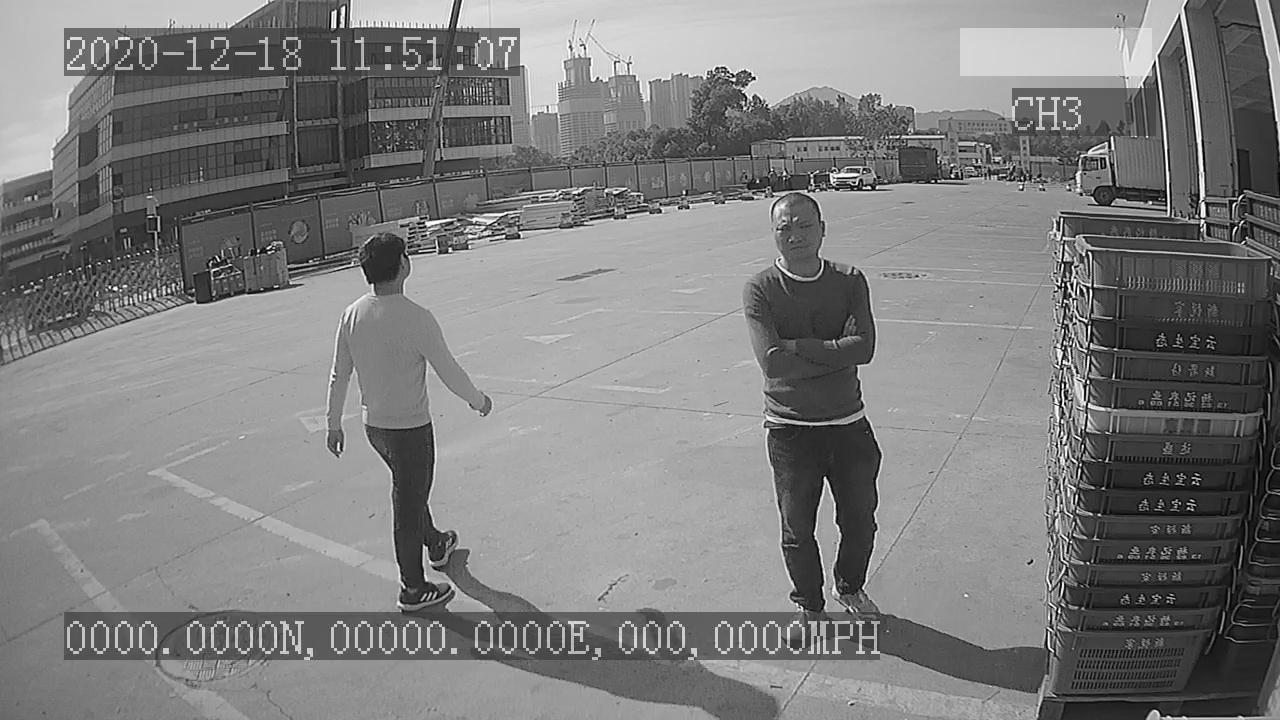person: (315, 229, 501, 608)
